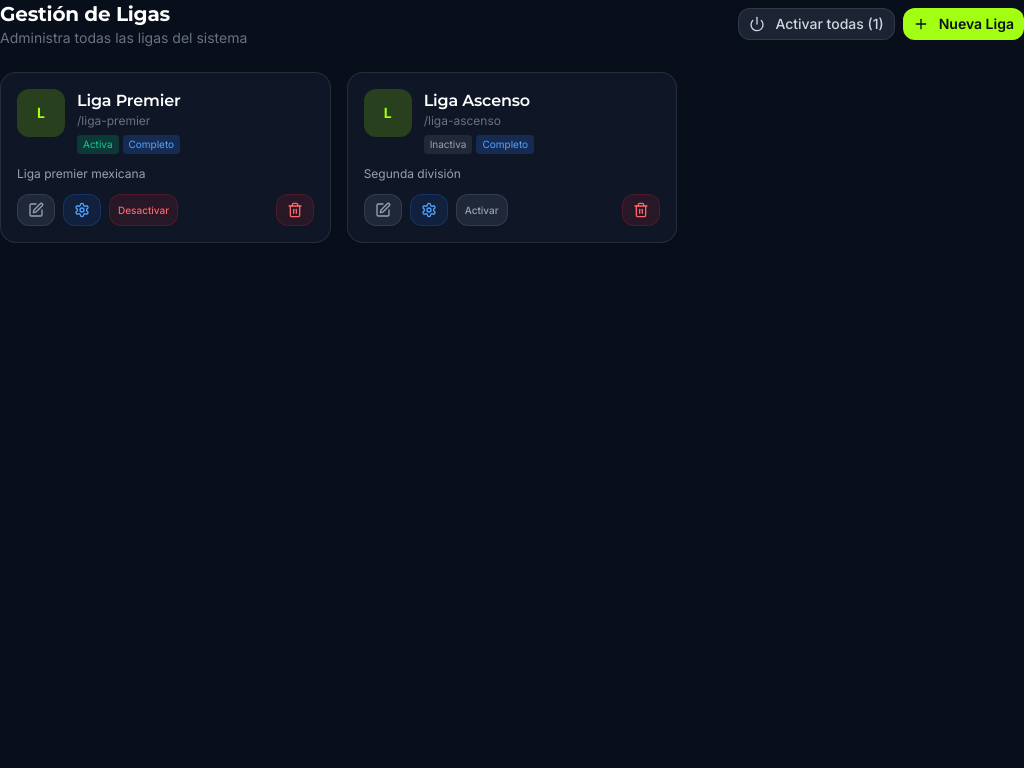
Test: Delete league › keeps the dialog open and shows the API message when deleting fails
Expected: the heading "Liga Premier" is shown, [77,91,181,110]
What coordinates should you click on to do the following:
click the button named "Eliminar Liga Premier"
I would click on:
 (295, 210)
Its box is [276,194,314,226].
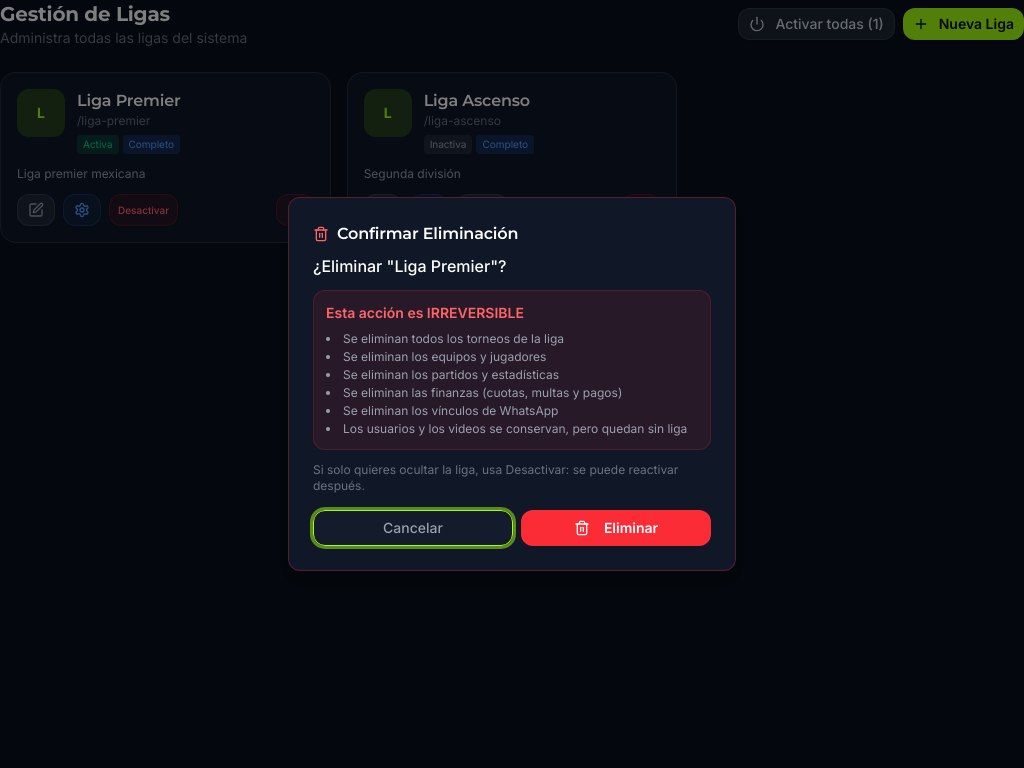
What coordinates should you click on to do the following:
click the button "Eliminar"
I would click on:
 (616, 528)
Its box is [521,510,711,546].
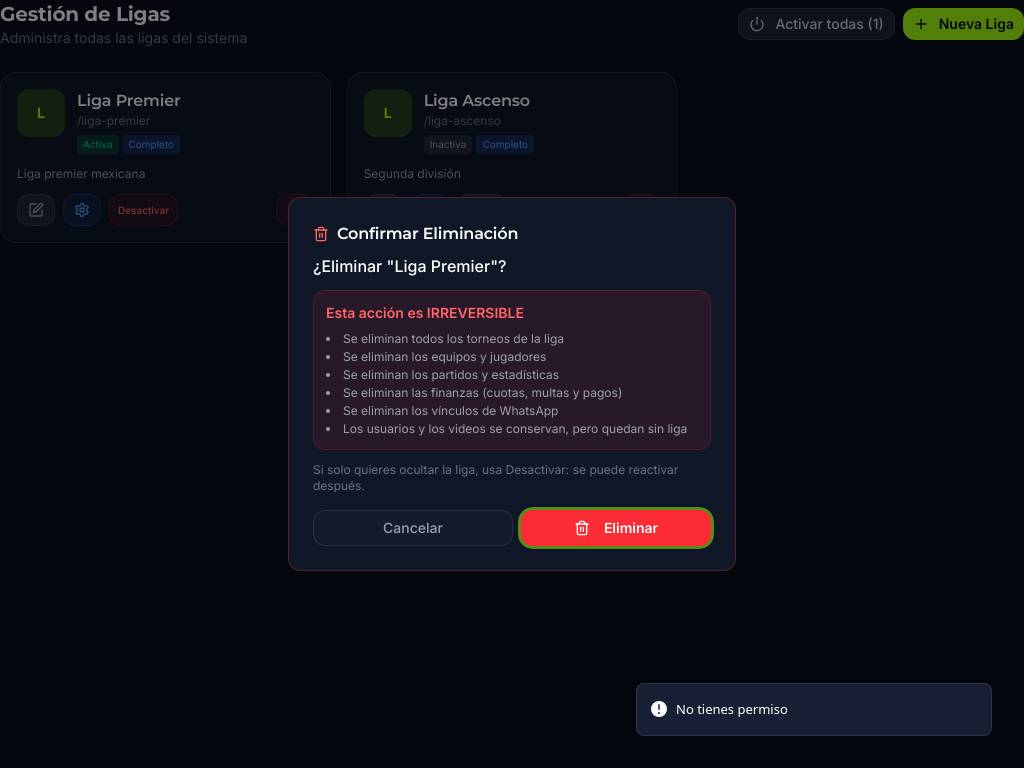
Expected: the dialog is shown, [288,197,736,571]
Expected: the text "No tienes permiso" is shown, [676,700,788,719]
